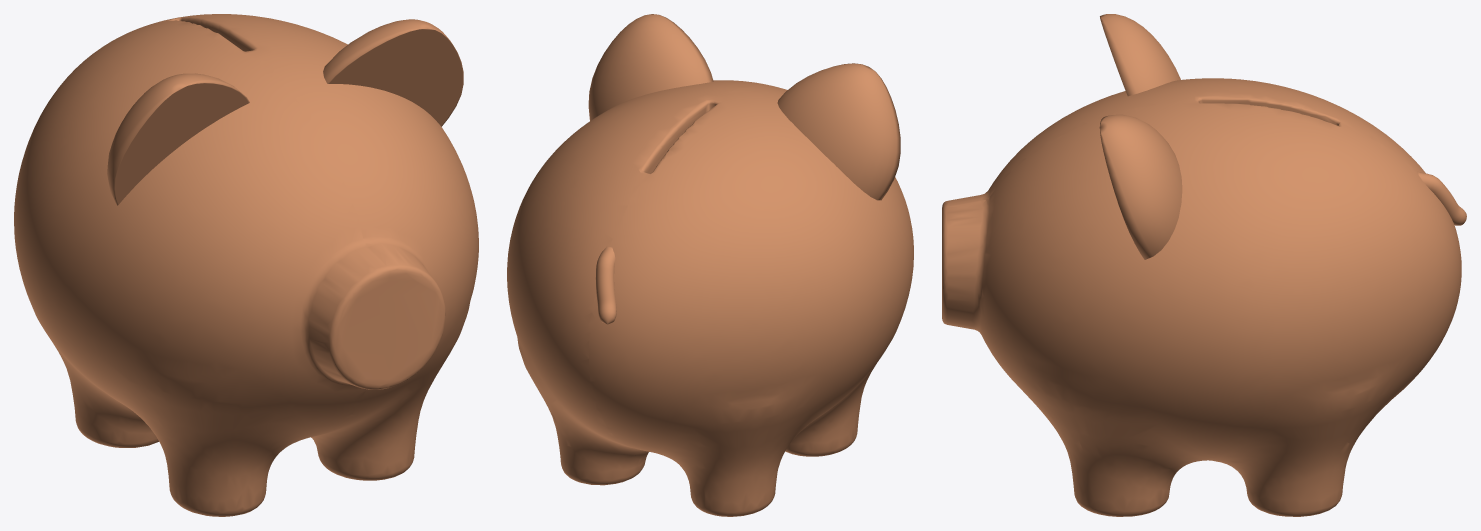
The model's file is alcancia_m.glb.
The picture shows the model from 3 angles, left to right: view 1: azimuth 30°, elevation 25°; view 2: azimuth 150°, elevation 25°; view 3: azimuth 270°, elevation 25°; orthographic projection. The views are drawn at different scales.
Visible parts, largest first — view 1: cuerpo, oreja_izq, oreja_der; view 2: cuerpo, oreja_der, oreja_izq, cola; view 3: cuerpo, oreja_izq, oreja_der, cola.
Part boxes in pixels (x1,y1,x2,y2): cuerpo: (14,14,478,516); oreja_izq: (323,19,463,126); oreja_der: (107,73,249,205); cuerpo: (507,80,913,516); oreja_der: (777,63,900,200); oreja_izq: (588,14,713,120); cola: (595,246,616,324); cuerpo: (942,78,1461,516); oreja_izq: (1099,114,1182,259); oreja_der: (1100,14,1180,96); cola: (1417,171,1466,225).
Size of the model in its own units: 0.1152 by 0.1225 by 0.1458.
